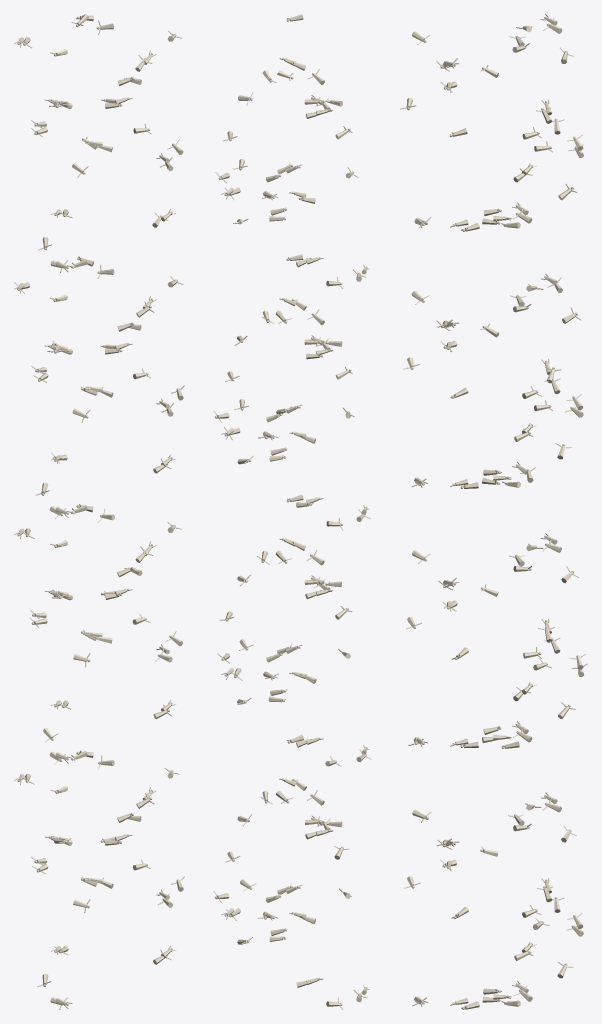
Rendered from Circle2Away.obj.
The picture shows the model from 3 angles, left to right: view 1: azimuth 30°, elevation 25°; view 2: azimuth 150°, elevation 25°; view 3: azimuth 270°, elevation 25°; orthographic projection. The views are drawn at different scales.
Visible parts, largest first — view 1: Circle2Away; view 2: Circle2Away; view 3: Circle2Away.
Boxes of the visible parts, x1,y1,x2,y2 form: Circle2Away: (14,14,184,1009); Circle2Away: (213,14,371,1009); Circle2Away: (400,14,587,1009).
Size of the model in its own units: 22.49 by 142 by 23.64.
1 material, 1 textured.
